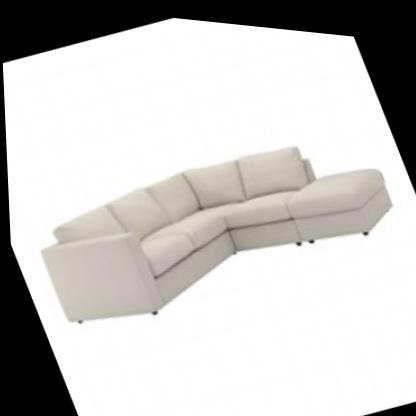Sofa: (2, 59, 416, 383)
